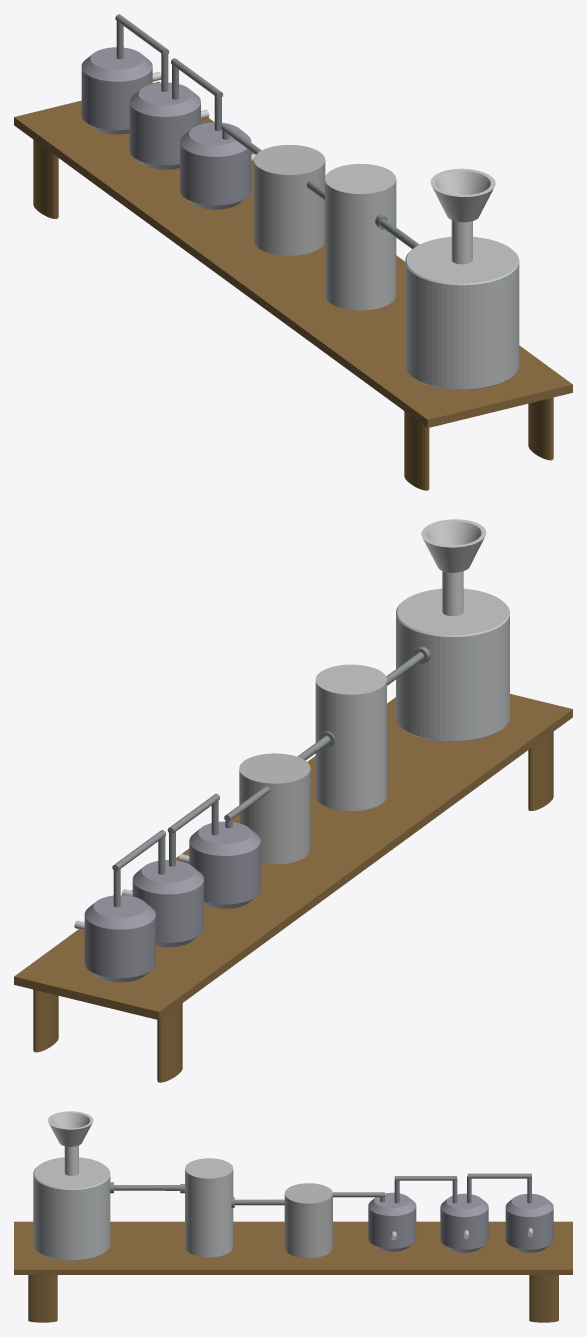
Rendered from MAQUINADEPIROLISIS.glb.
3 views of the same model, one above another, from view 1: azimuth 30°, elevation 25°; view 2: azimuth 150°, elevation 25°; view 3: azimuth 270°, elevation 25° (orthographic). The views are drawn at different scales.
Visible parts, largest first — view 1: Mesh_Mesh_head_geo.001_lambert2SG.001; view 2: Mesh_Mesh_head_geo.001_lambert2SG.001; view 3: Mesh_Mesh_head_geo.001_lambert2SG.001.
Boxes of the visible parts, x1,y1,x2,y2 form: Mesh_Mesh_head_geo.001_lambert2SG.001: (14,14,572,490); Mesh_Mesh_head_geo.001_lambert2SG.001: (14,519,572,1082); Mesh_Mesh_head_geo.001_lambert2SG.001: (14,1111,572,1322).
Bounding box in the file's own units: 47 × 83 × 232.
